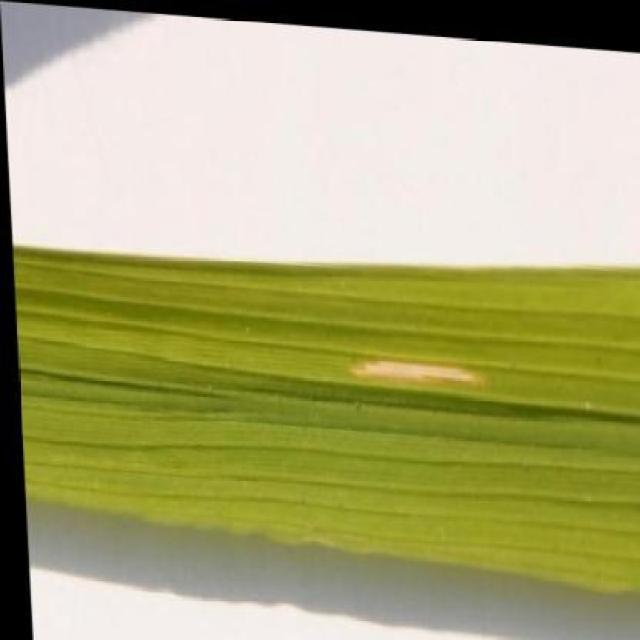Brown_Spot: (9, 210, 640, 592)
